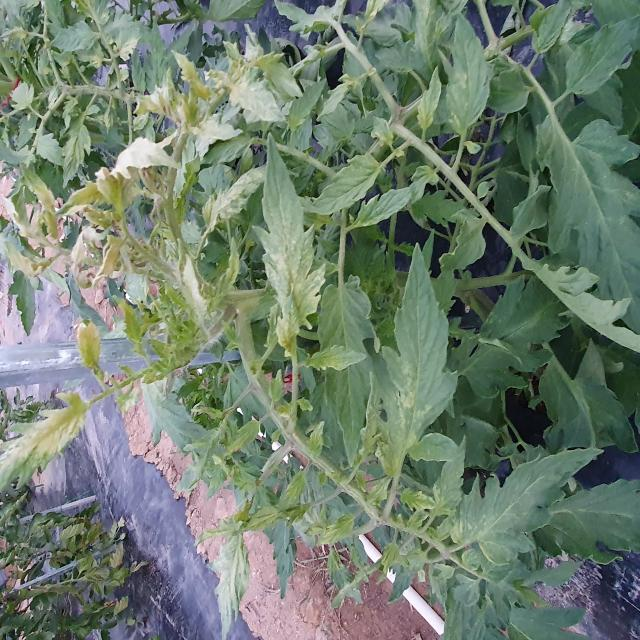Healthy Leaf: (538, 114, 640, 335), (450, 450, 604, 565), (383, 243, 458, 476), (256, 137, 326, 334), (452, 278, 565, 400), (319, 276, 383, 467), (1, 392, 87, 490), (447, 15, 491, 140), (565, 22, 632, 97), (310, 154, 383, 216), (209, 535, 252, 640), (205, 164, 267, 230), (435, 437, 469, 518), (440, 218, 489, 273), (276, 1, 345, 37), (232, 81, 286, 122), (358, 189, 414, 228), (389, 552, 429, 605), (287, 78, 326, 131), (63, 120, 93, 187), (177, 444, 213, 497), (535, 1, 571, 52), (309, 347, 367, 371), (52, 23, 96, 51), (117, 28, 142, 65)
